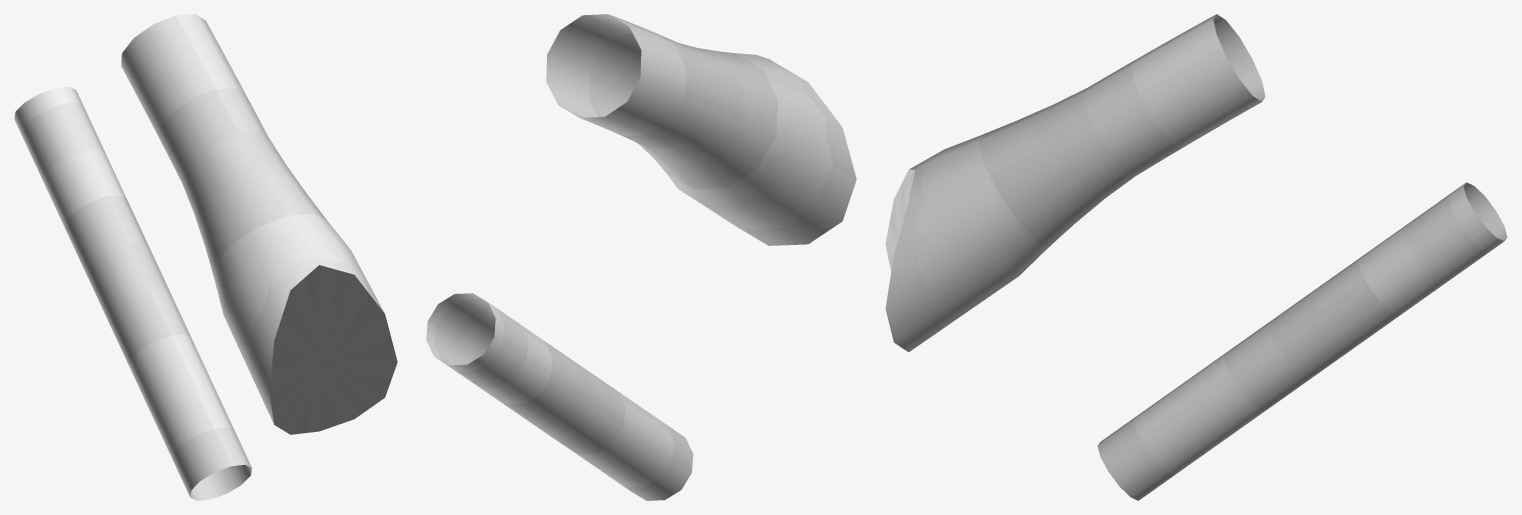
File: luminairearm_truss10ftdouble_c0_thin.obj
3 views of the same model, side by side, from view 1: azimuth 30°, elevation 25°; view 2: azimuth 150°, elevation 25°; view 3: azimuth 270°, elevation 25° (orthographic). The views are drawn at different scales.
Visible parts, largest first — view 1: luminairearm_truss10ftdouble_c0_thin; view 2: luminairearm_truss10ftdouble_c0_thin; view 3: luminairearm_truss10ftdouble_c0_thin.
Boxes of the visible parts, x1,y1,x2,y2 form: luminairearm_truss10ftdouble_c0_thin: [14, 14, 397, 500]; luminairearm_truss10ftdouble_c0_thin: [426, 14, 856, 500]; luminairearm_truss10ftdouble_c0_thin: [885, 14, 1507, 500].
Bounding box in the file's own units: 0.3375 × 1.15 × 1.36.
